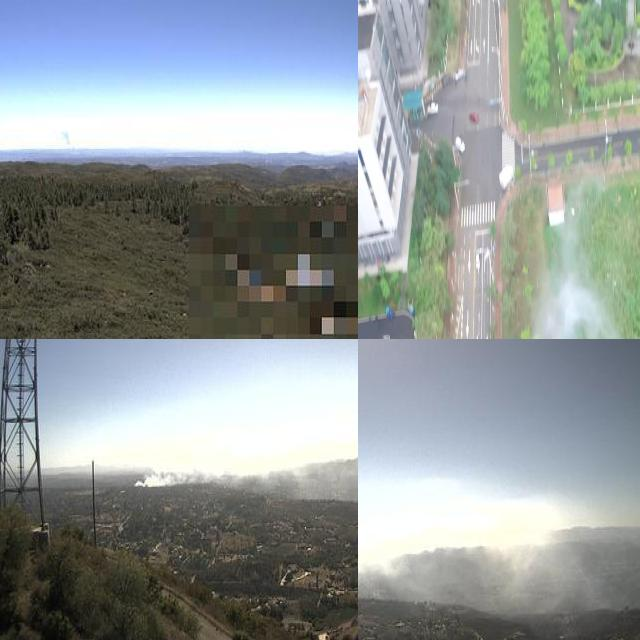smoke: (358, 526, 611, 620), (131, 421, 358, 516), (517, 276, 635, 339), (54, 126, 74, 152)
